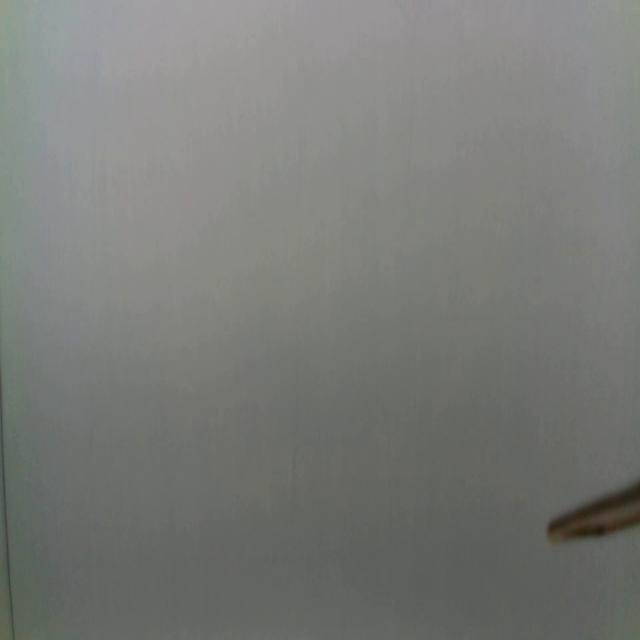crease: (0, 360, 16, 640)
